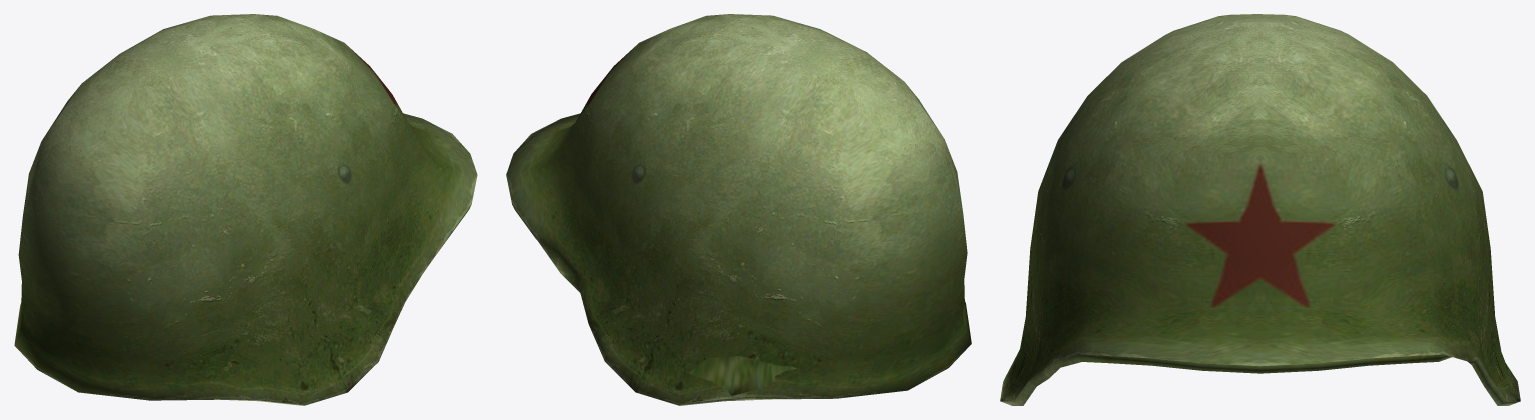
Rendered from kaska.DAE.
3 renders of one model, left to right at view 1: azimuth 30°, elevation 25°; view 2: azimuth 150°, elevation 25°; view 3: azimuth 270°, elevation 25°, orthographic. The views are drawn at different scales.
Visible parts, largest first — view 1: kaska_PIVOT; view 2: kaska_PIVOT; view 3: kaska_PIVOT.
Boxes of the visible parts, bbox=[...] form: kaska_PIVOT: bbox=[14, 14, 477, 405]; kaska_PIVOT: bbox=[506, 14, 971, 405]; kaska_PIVOT: bbox=[1000, 14, 1520, 405].
Size of the model in its own units: 220 by 192 by 148.
Materials: 1 (1 with a texture image).
